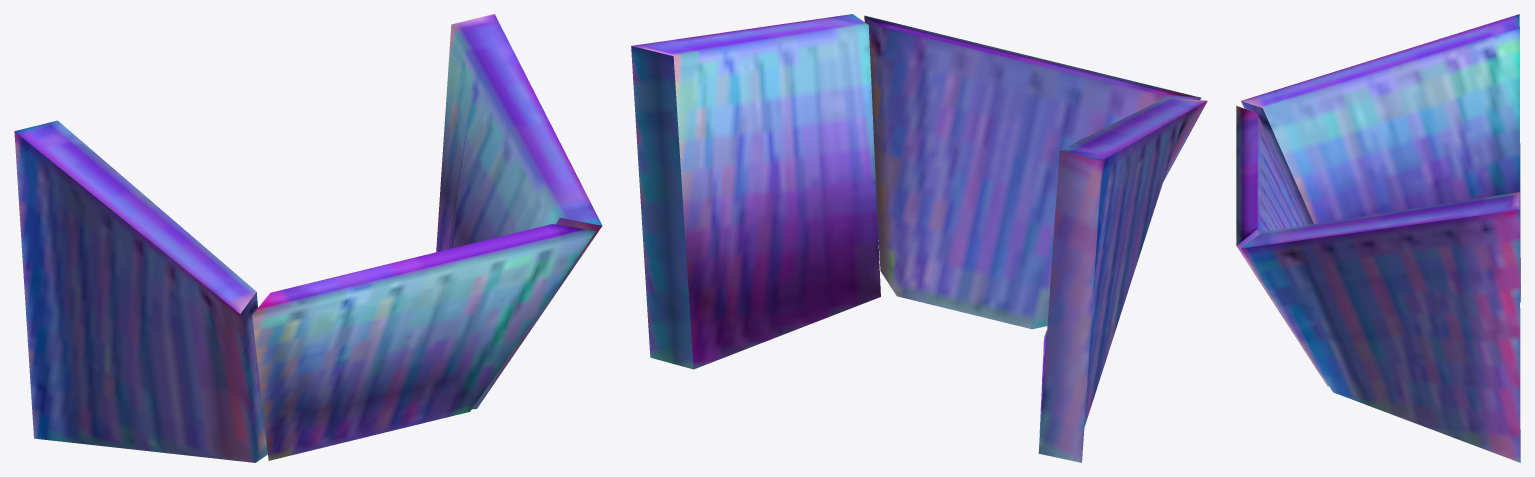
Rendered from debris_01_05.glb.
The picture shows the model from 3 angles, left to right: view 1: azimuth 30°, elevation 25°; view 2: azimuth 150°, elevation 25°; view 3: azimuth 270°, elevation 25°; orthographic projection. The views are drawn at different scales.
Parts seen in each view (by area): view 1: debris_01_05; view 2: debris_01_05; view 3: debris_01_05.
Boxes of the visible parts, <box> form: debris_01_05: <box>14,14,602,462</box>; debris_01_05: <box>631,14,1207,462</box>; debris_01_05: <box>1236,14,1520,462</box>.
Bounding box in the file's own units: 0.482 × 0.3012 × 0.2955.
Materials: 1 (1 with a texture image).
